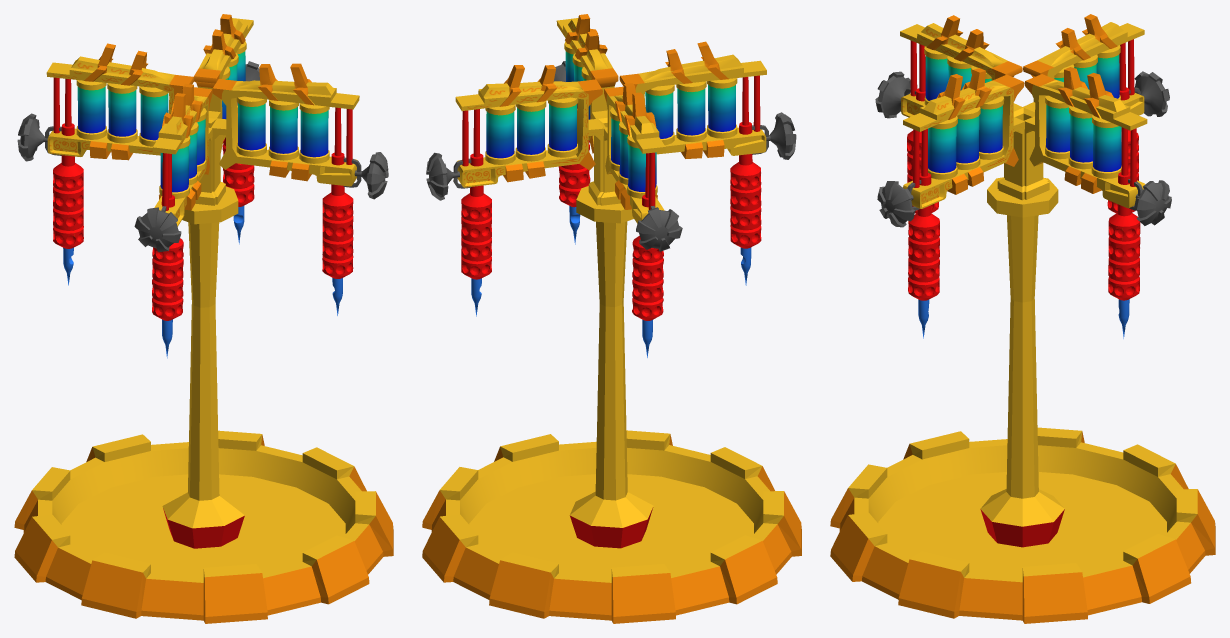
Rendered from prop_Fountain01.fbx.
The picture shows the model from 3 angles, left to right: view 1: azimuth 30°, elevation 25°; view 2: azimuth 150°, elevation 25°; view 3: azimuth 270°, elevation 25°; orthographic projection.
Visible parts, largest first — view 1: prop_Fountain01; view 2: prop_Fountain01; view 3: prop_Fountain01.
Boxes of the visible parts, <box> form: prop_Fountain01: <box>14,14,393,623</box>; prop_Fountain01: <box>422,14,801,623</box>; prop_Fountain01: <box>830,14,1215,623</box>.
Size of the model in its own units: 264 by 369 by 260.
1 material, 1 textured.
